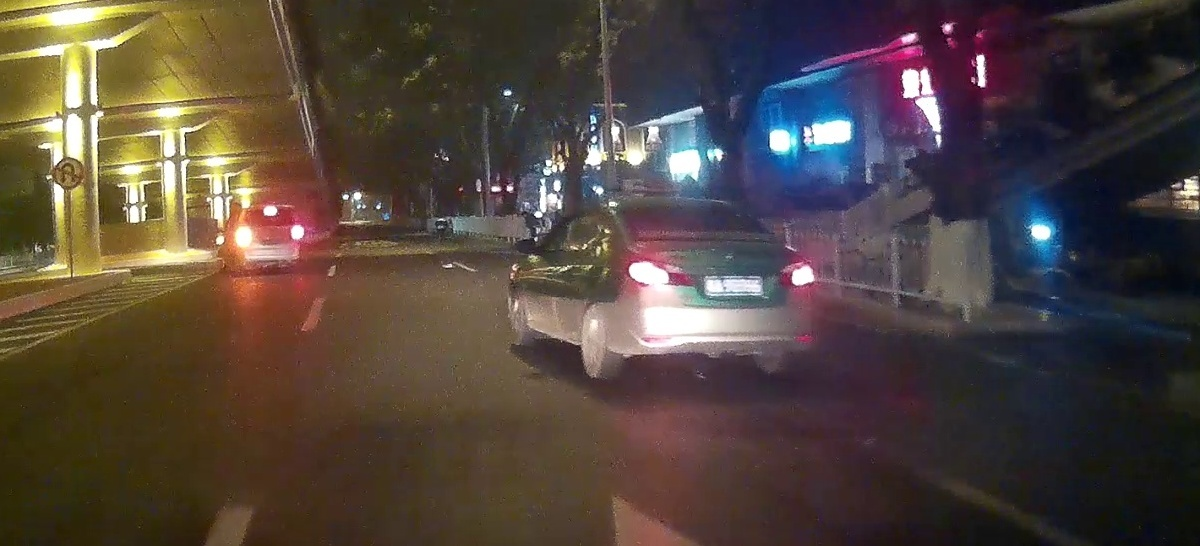L_light: (624, 254, 692, 286), (235, 226, 253, 249)
R_light: (779, 255, 816, 287), (291, 224, 304, 240)
T_light: (670, 206, 700, 215), (263, 206, 278, 216)
night-left: (235, 205, 305, 271)
night-no: (618, 196, 818, 375)
